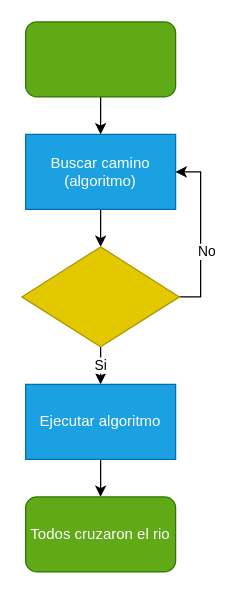
Image size: 236x594. Some labels were removed from this diagram. Here are the shapes that lost their labels. From the top down, the box of each, then its label:
(24, 21, 176, 97): Estado inicial
(21, 246, 179, 347): ¿Encontró el camino correcto?
